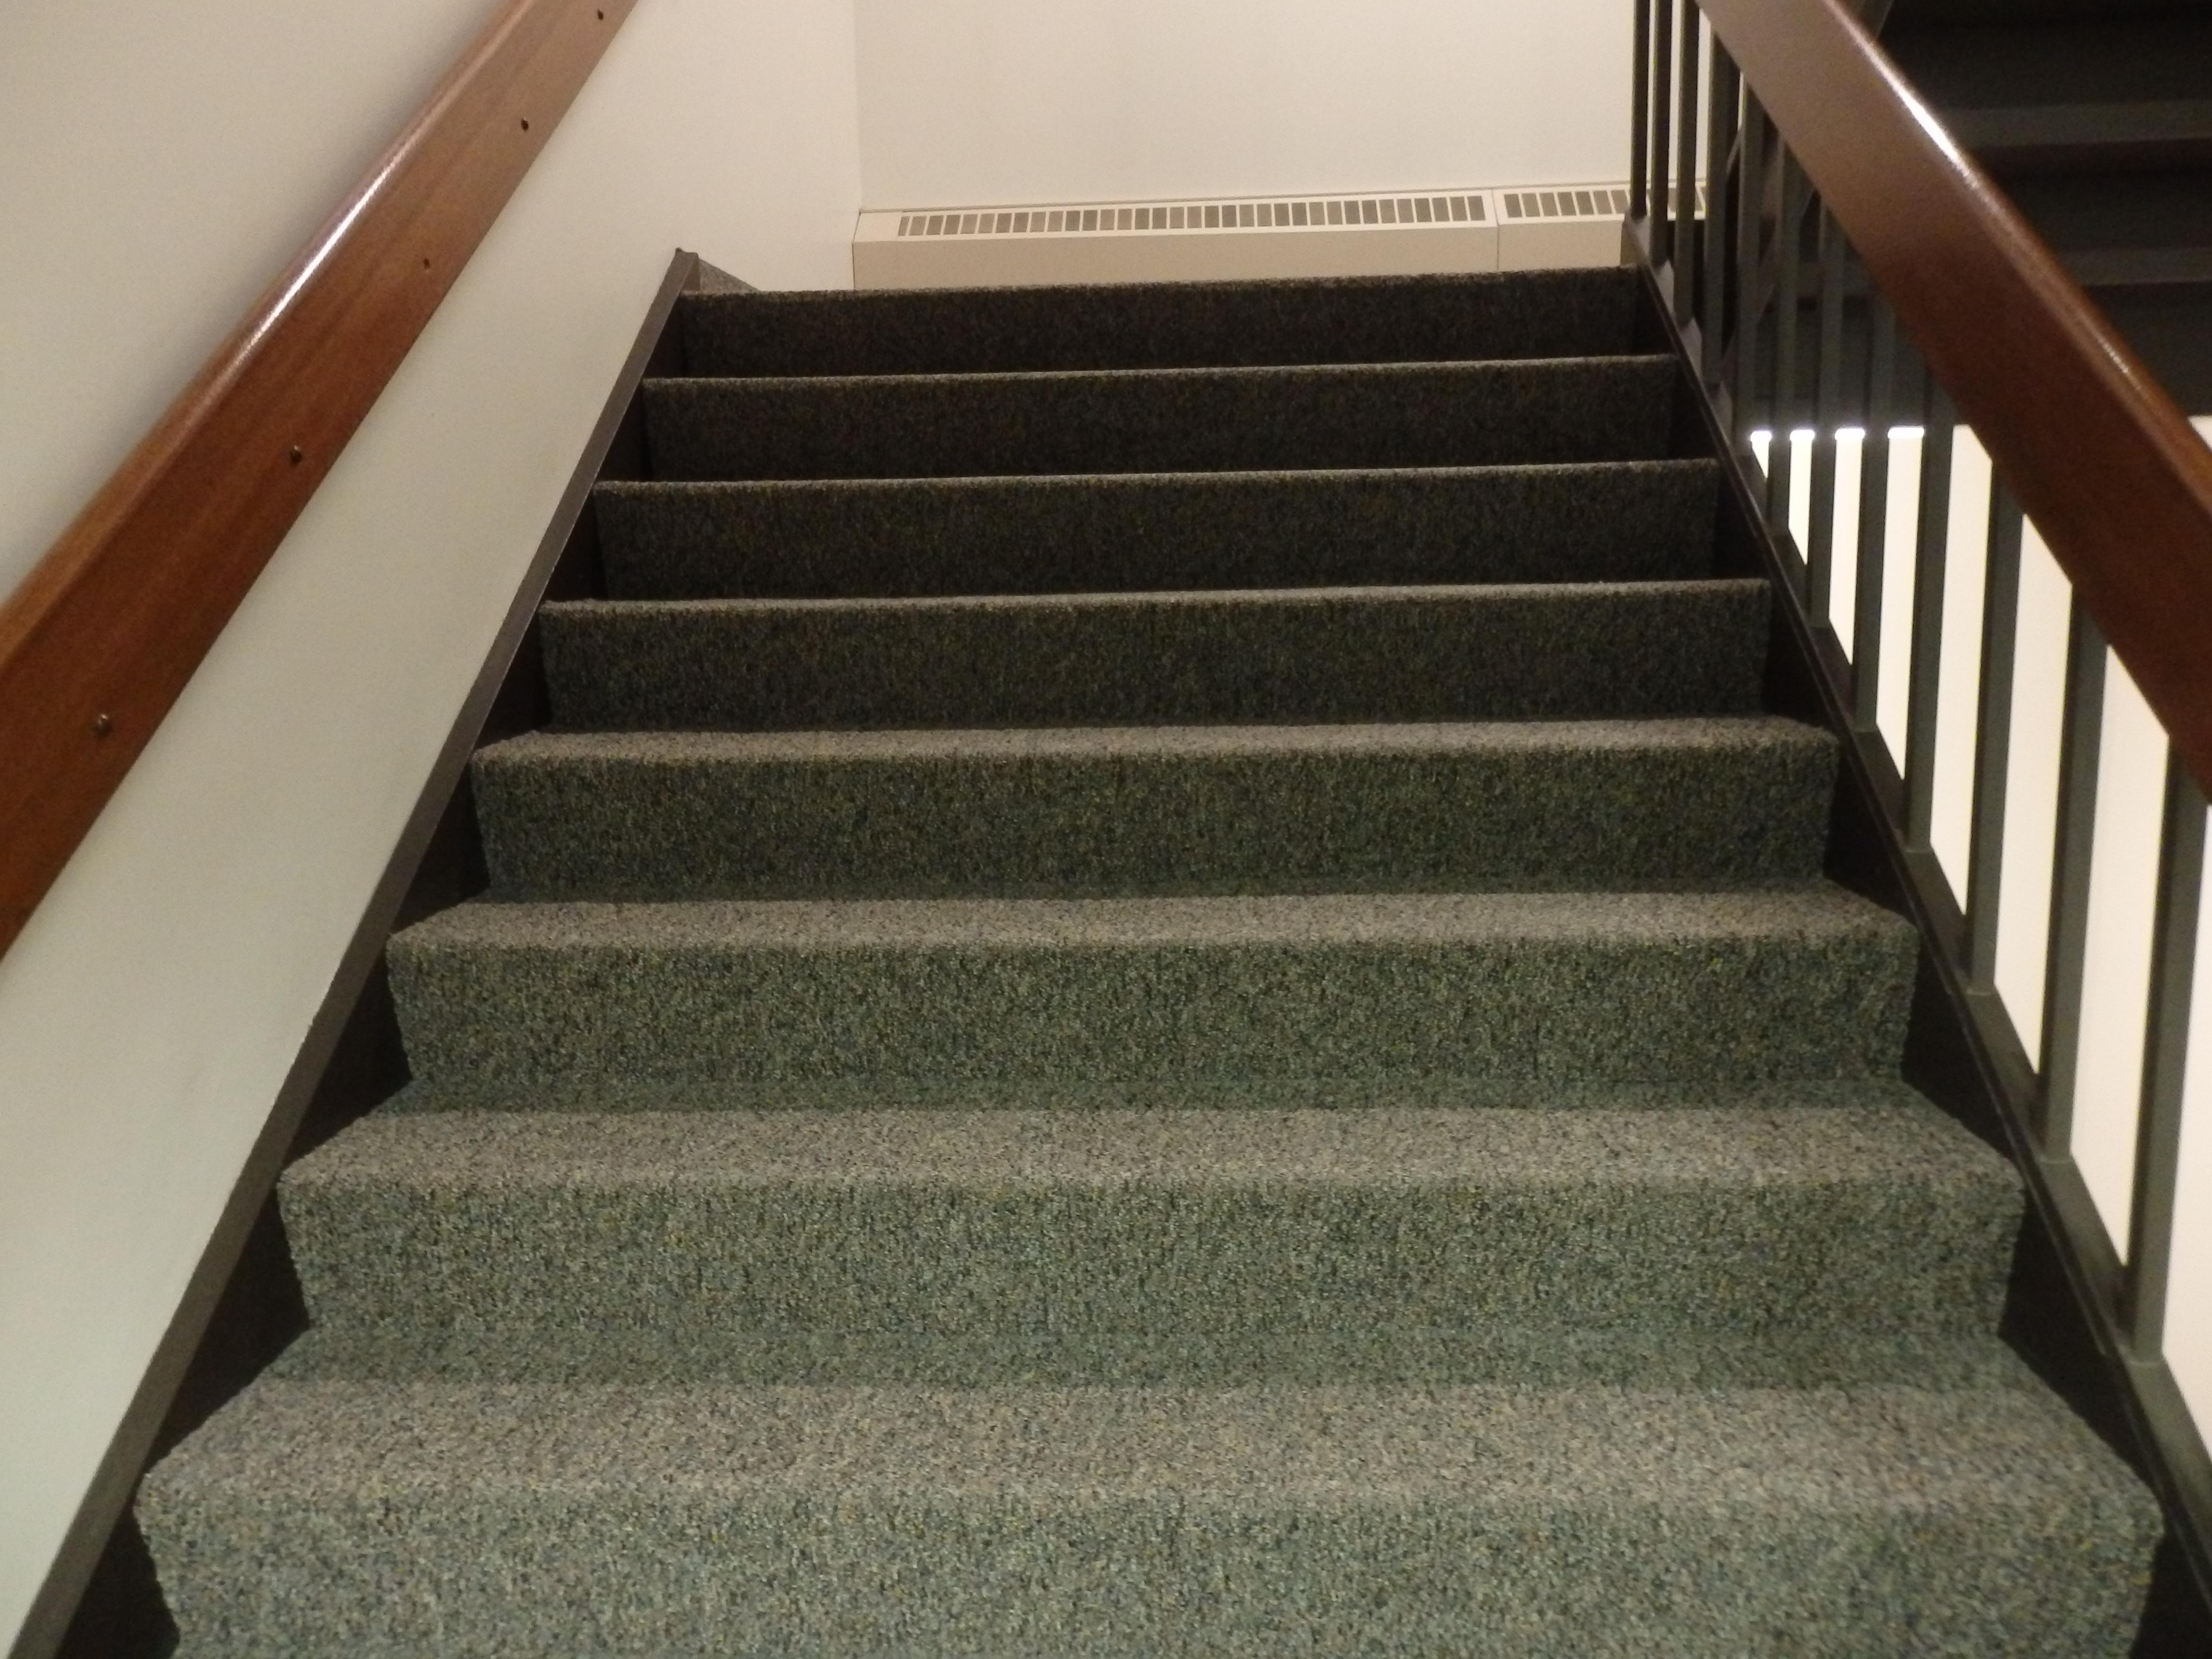stairs_up: (172, 216, 1944, 1659)
